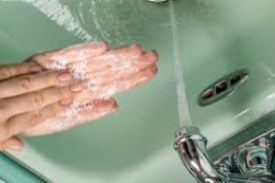washing hand: (11, 2, 269, 175)
